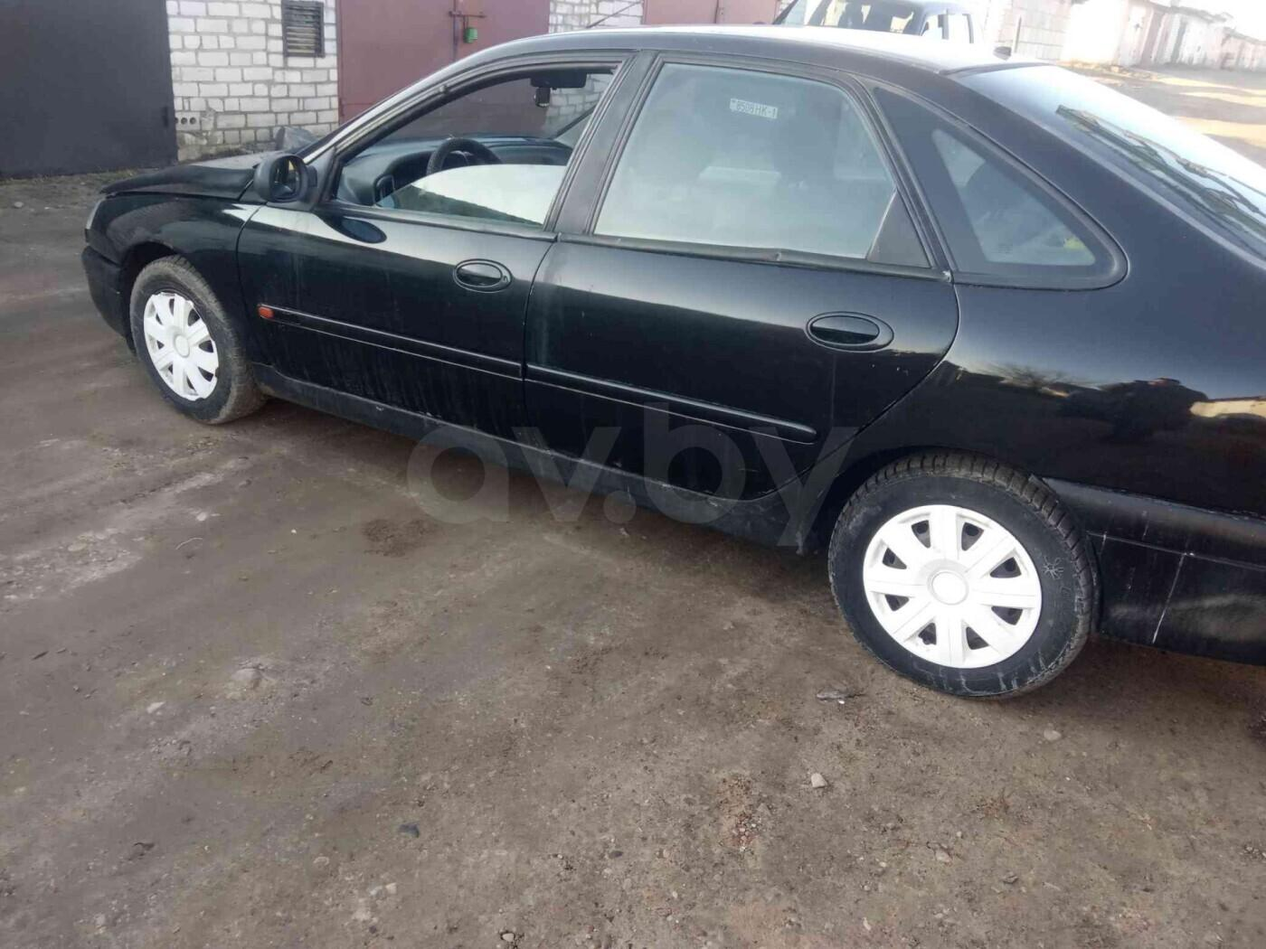Lahuna_1993-1999: (77, 19, 1266, 709)
